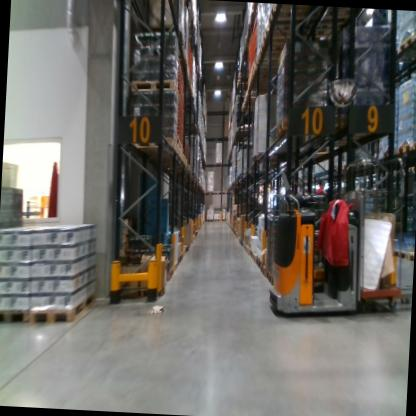pallet: (27, 288, 96, 331), (262, 17, 342, 47), (266, 5, 351, 31), (130, 74, 179, 105), (123, 279, 167, 306), (131, 132, 178, 155), (0, 300, 35, 327), (397, 30, 416, 59), (396, 140, 414, 156), (266, 268, 279, 288), (382, 147, 400, 158), (164, 266, 174, 284), (252, 251, 263, 265), (255, 256, 265, 271), (173, 133, 182, 149), (406, 164, 416, 175), (261, 264, 267, 278), (412, 20, 416, 41), (412, 138, 416, 151)
pallet_truck: (269, 170, 403, 329)
